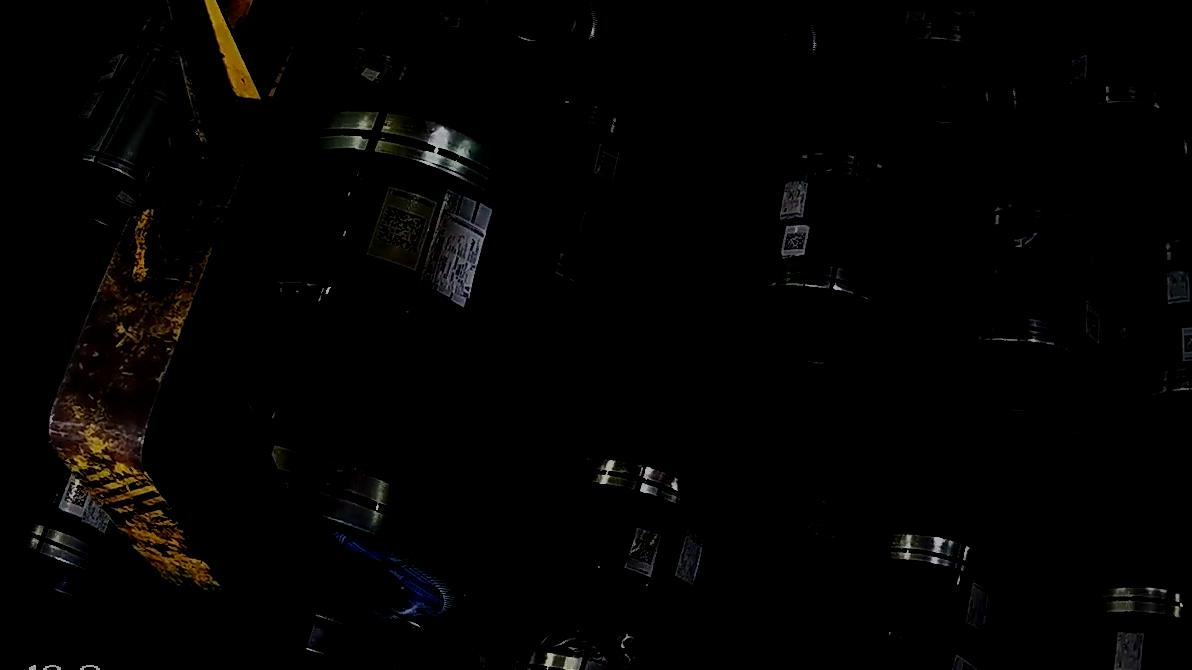data matrix: (373, 203, 429, 256), (627, 534, 660, 568), (594, 150, 621, 178), (781, 230, 809, 253), (1085, 308, 1104, 336), (1070, 60, 1090, 80), (955, 659, 984, 670)
